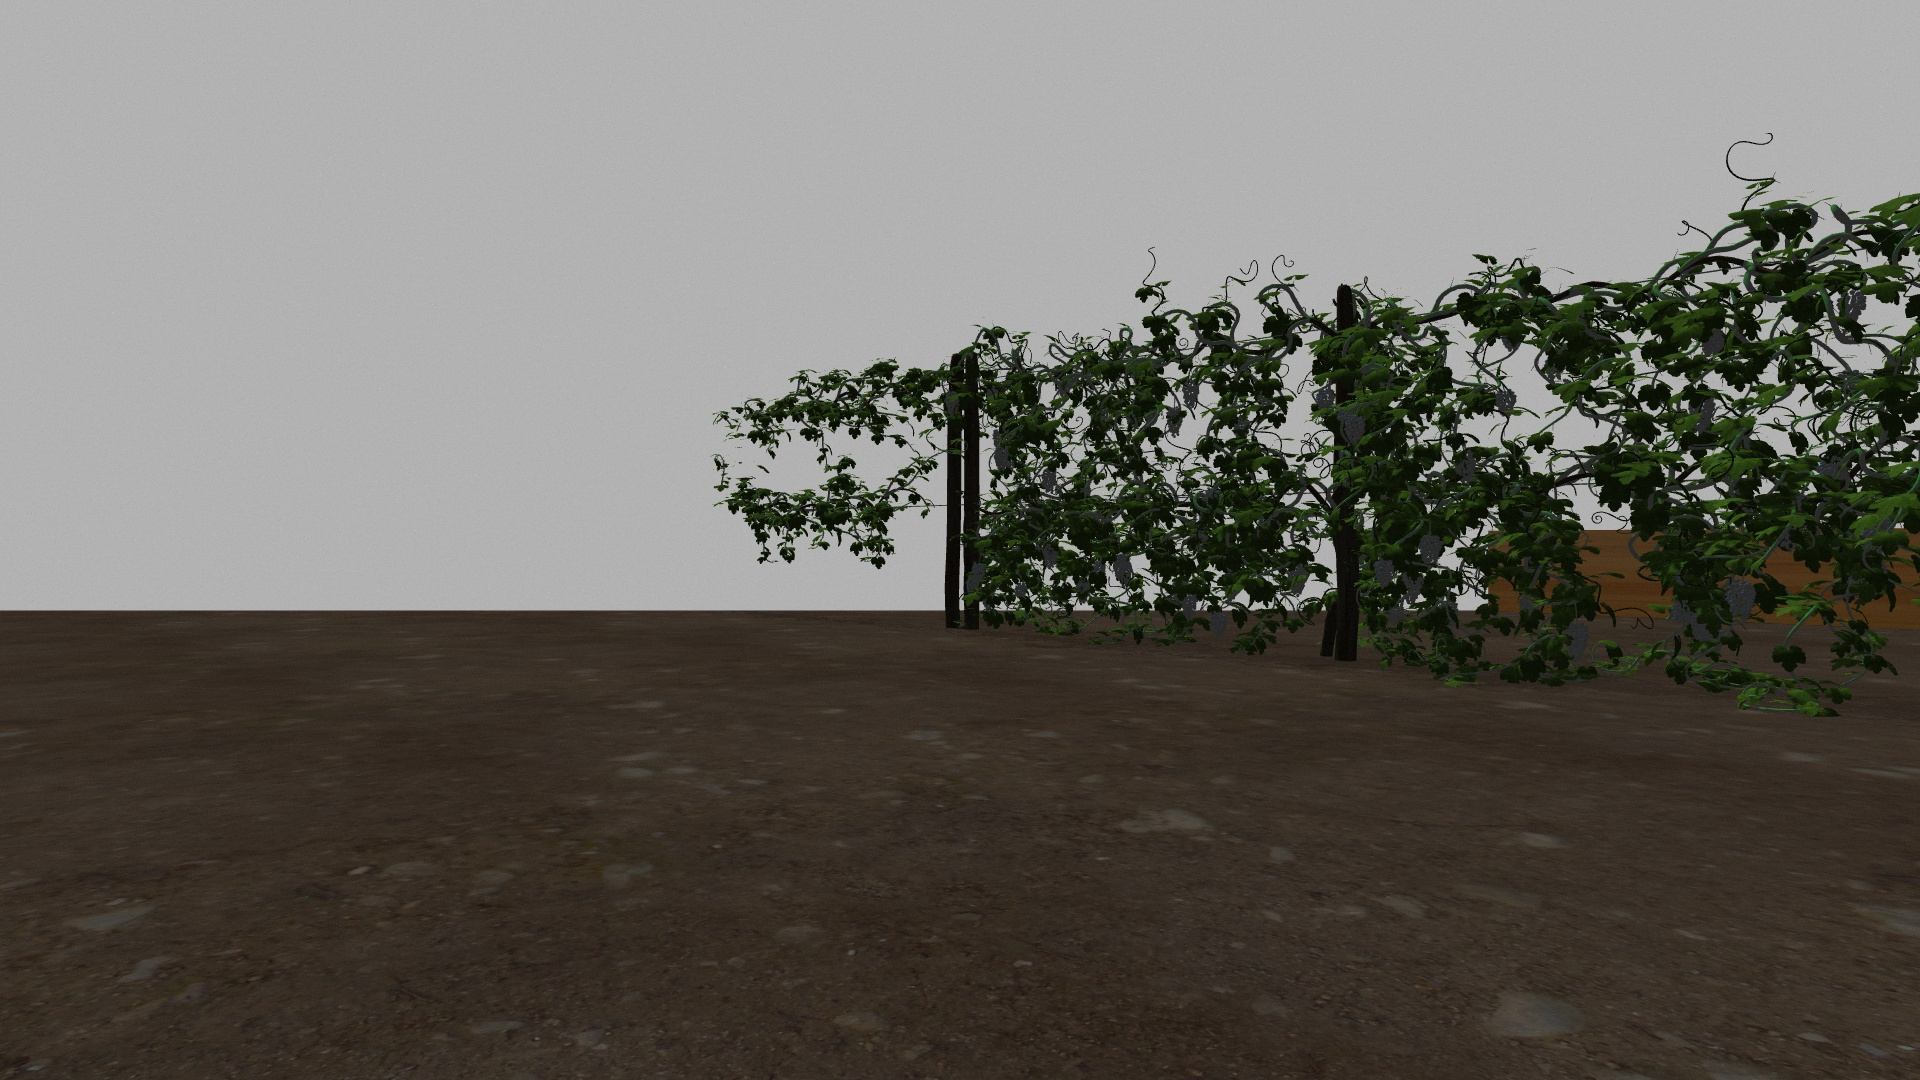grape: (1724, 576, 1756, 621), (1561, 621, 1592, 663), (1837, 289, 1866, 326), (1338, 406, 1367, 442), (1402, 570, 1425, 608), (992, 435, 1014, 473), (1418, 534, 1443, 566), (1112, 554, 1135, 587), (1455, 448, 1477, 483), (1288, 560, 1309, 596), (1371, 558, 1395, 588), (1313, 386, 1337, 415), (1691, 615, 1714, 644), (1702, 328, 1725, 356), (1669, 597, 1692, 624), (1166, 407, 1185, 436), (1495, 389, 1516, 415), (1209, 608, 1229, 636), (967, 563, 986, 591), (1183, 381, 1200, 409), (1042, 543, 1059, 571), (945, 392, 961, 418), (1039, 469, 1058, 491), (1014, 582, 1029, 599)
